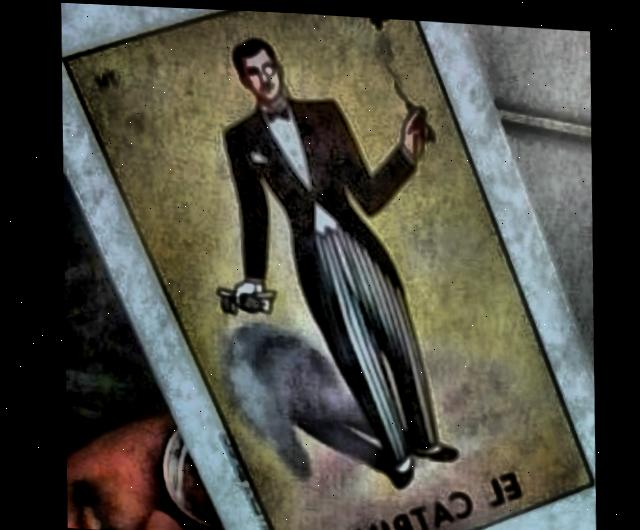El Catrin: (62, 8, 587, 530)
